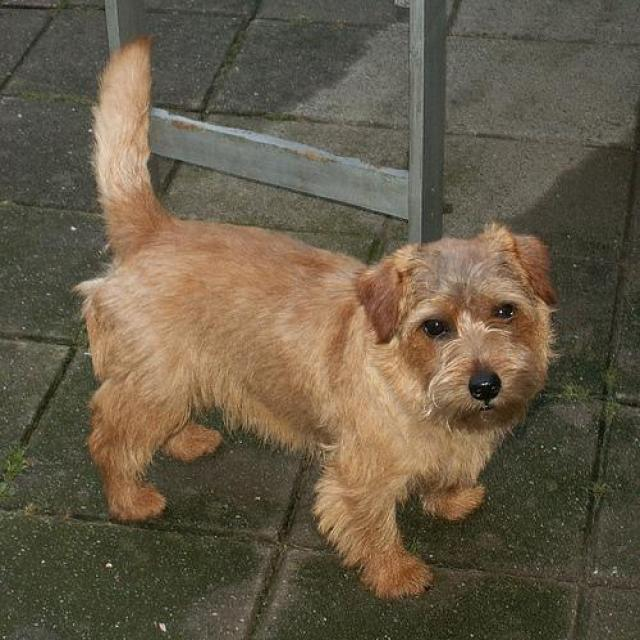adult_dog: (79, 34, 562, 603)
